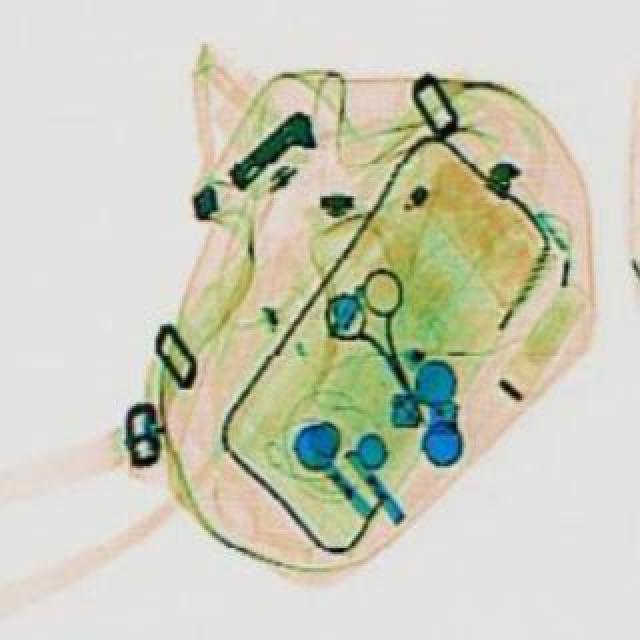pliers: (308, 258, 452, 416)
